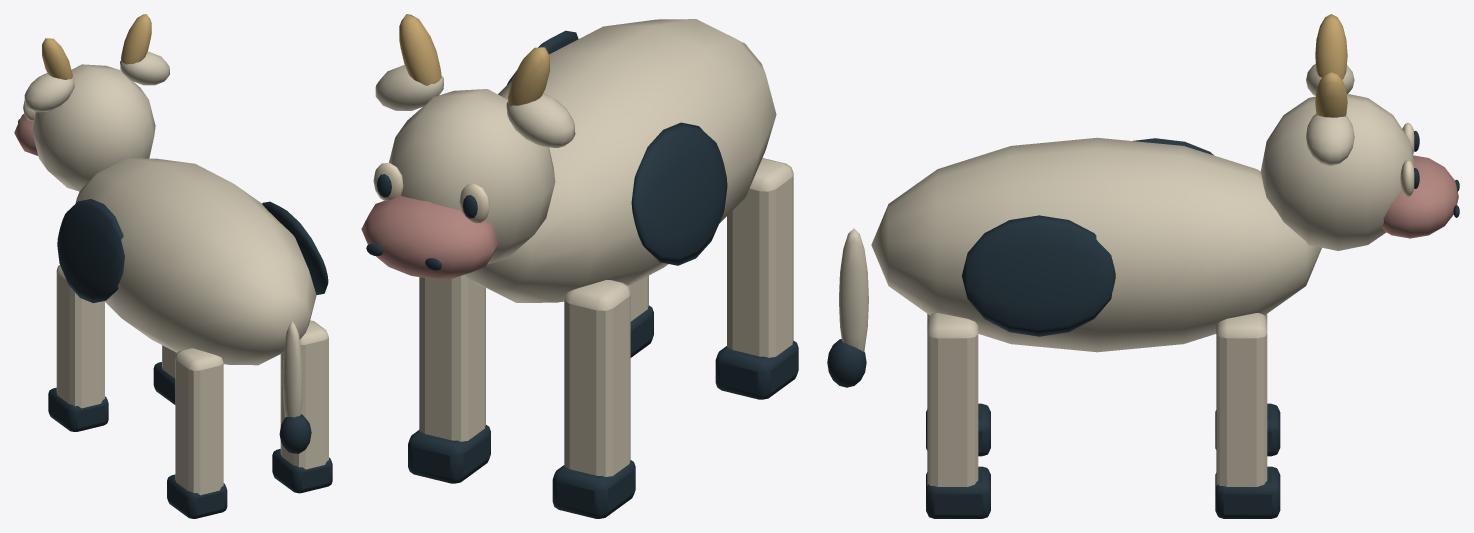
File: cow.glb
3 views of the same model, side by side, from view 1: azimuth 30°, elevation 25°; view 2: azimuth 150°, elevation 25°; view 3: azimuth 270°, elevation 25° (orthographic). The views are drawn at different scales.
Parts seen in each view (by area): view 1: cow.001; view 2: cow.001; view 3: cow.001.
Boxes of the visible parts, <box> form: cow.001: <box>14,14,332,518</box>; cow.001: <box>361,14,798,518</box>; cow.001: <box>827,14,1459,518</box>.
Size of the model in its own units: 1.11 by 2.08 by 2.73.
